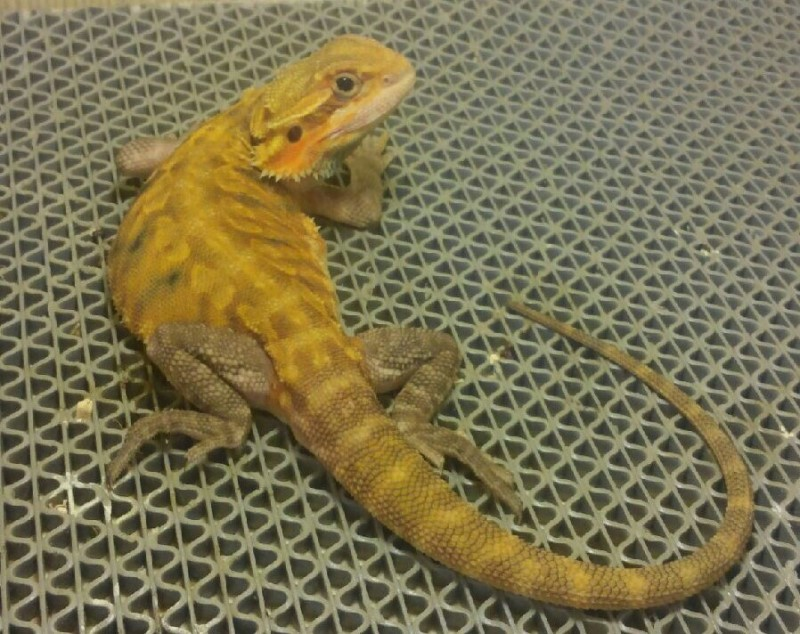bearded: (100, 36, 755, 615)
